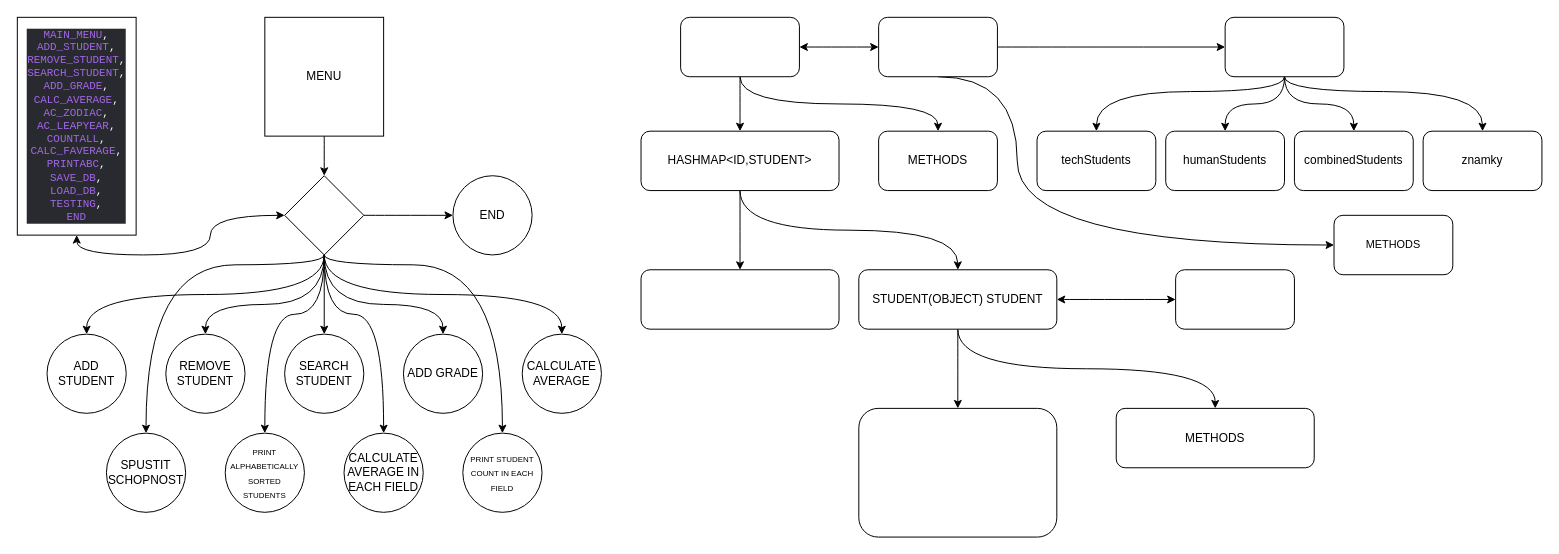
This 1559x554 diagram has some shape labels left out. The shapes that lost their labels are listed below. From the top down, each one's box as (x1, y1, x2, y2) in pixels, then its label:
(680, 16, 799, 77): DATABASE
(878, 16, 997, 77): SQL database
(1224, 16, 1344, 77): tables
(284, 175, 364, 255): SWITCH(action)
(640, 269, 839, 329): STRING STUDENT ID
(1175, 269, 1294, 329): Tech student Human student Combined student
(858, 407, 1057, 537): FIRST NAME LAST NAME ...... LIST<GRADE>
